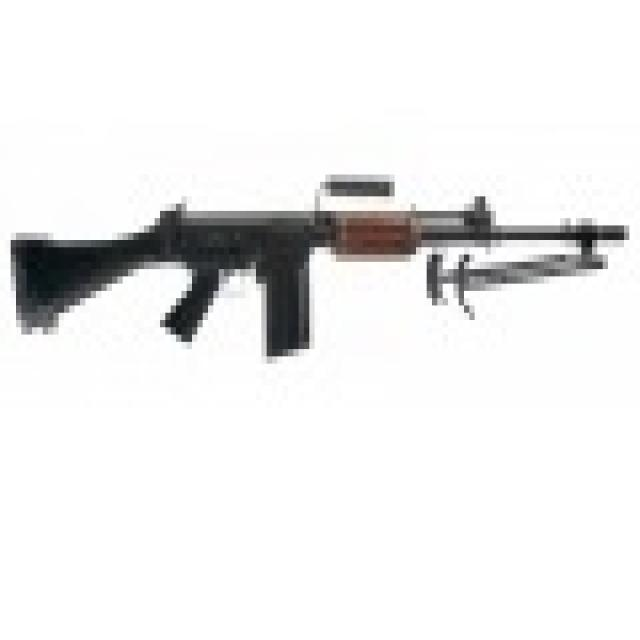Gun: (7, 155, 628, 387)
